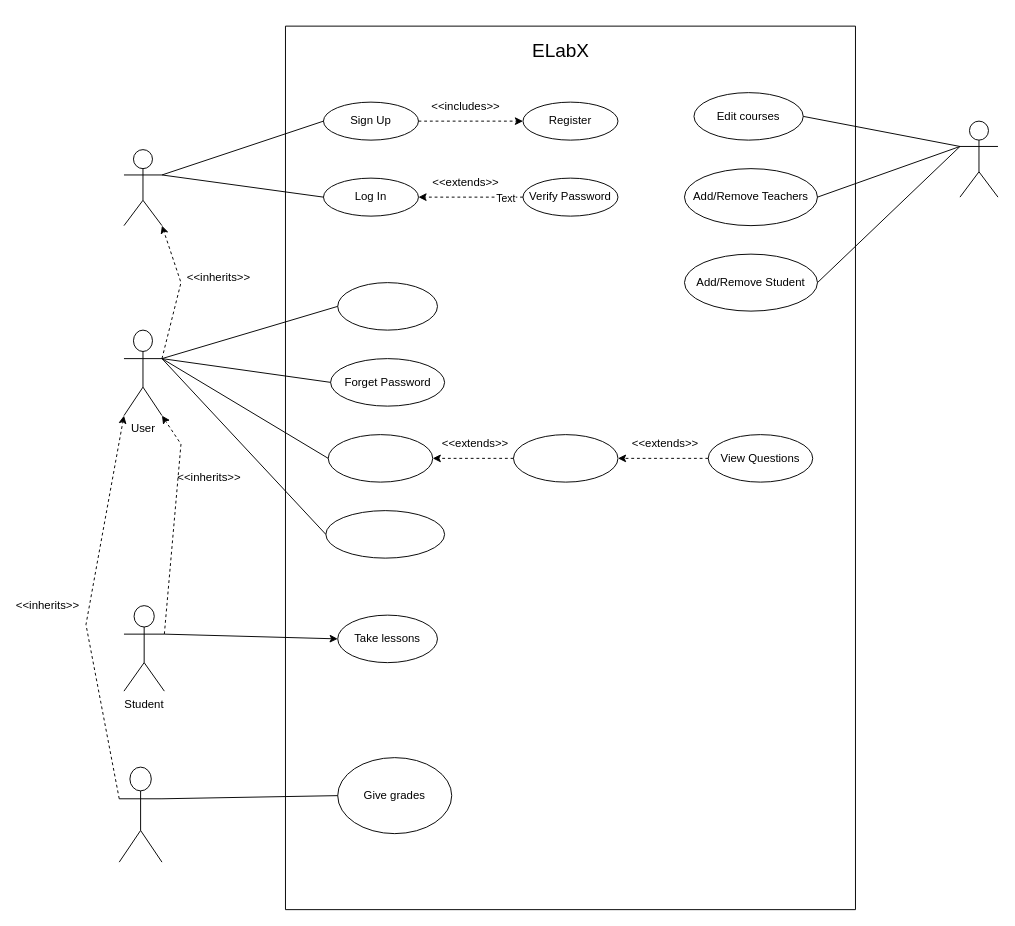
Some shapes in this 1015 by 926 pixel diagram are drawn without their labels. The shapes that lost their labels are listed below. From the top down, each one's centre as x and y in pixels, then its label:
At (x=978, y=158): "Admin".
At (x=142, y=187): "Guest".
At (x=387, y=306): "View Profile".
At (x=380, y=458): "View Courses".
At (x=565, y=458): "View Chapters".
At (x=385, y=534): "Review".
At (x=140, y=814): "Teacher".
